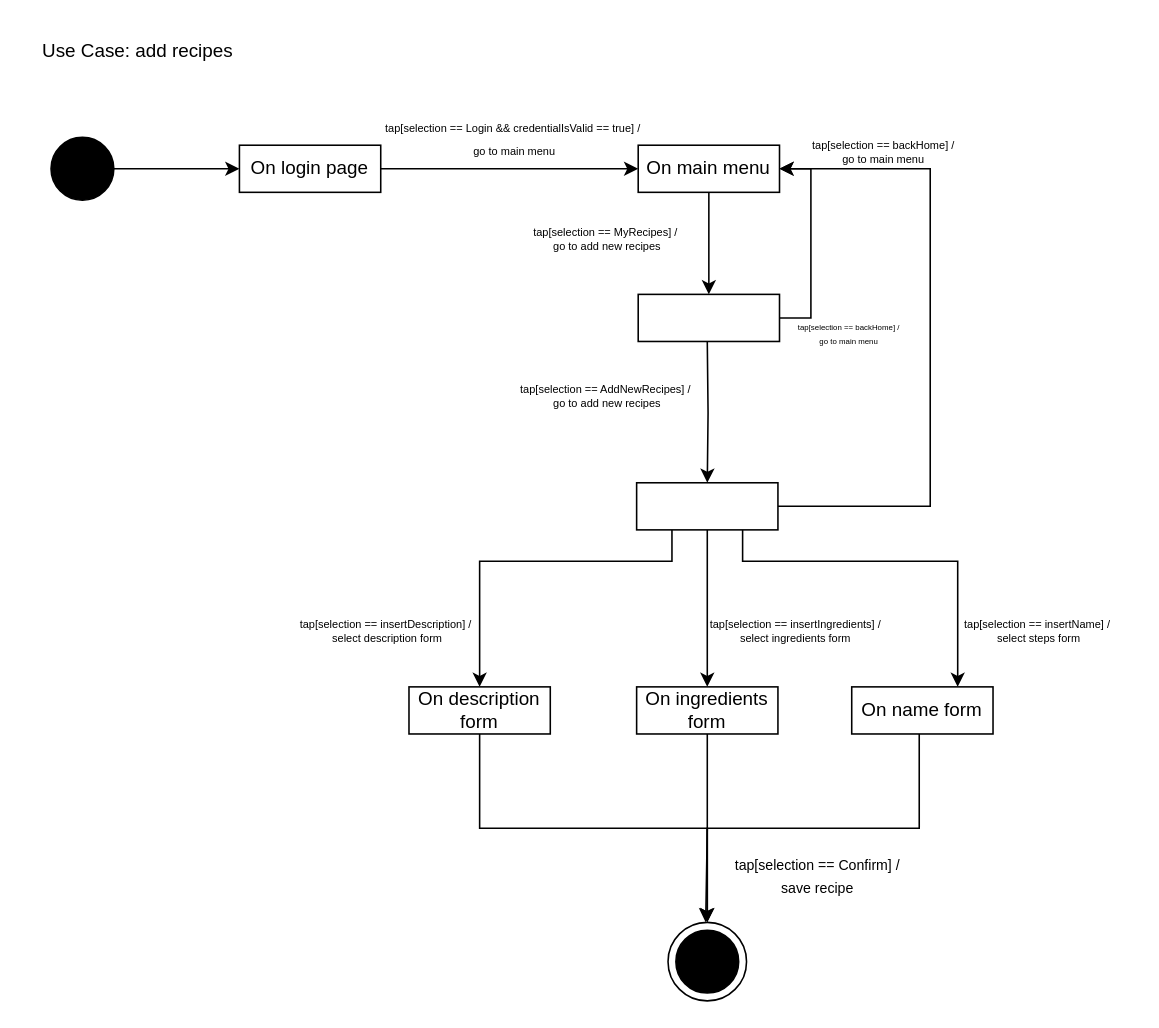
This 1159x1028 diagram has some shape labels left out. Here are the shapes that lost their labels. From the top down, the centre of each, then its label:
At (708,317): "On My Recipes".
At (706,505): "On add recipes".
